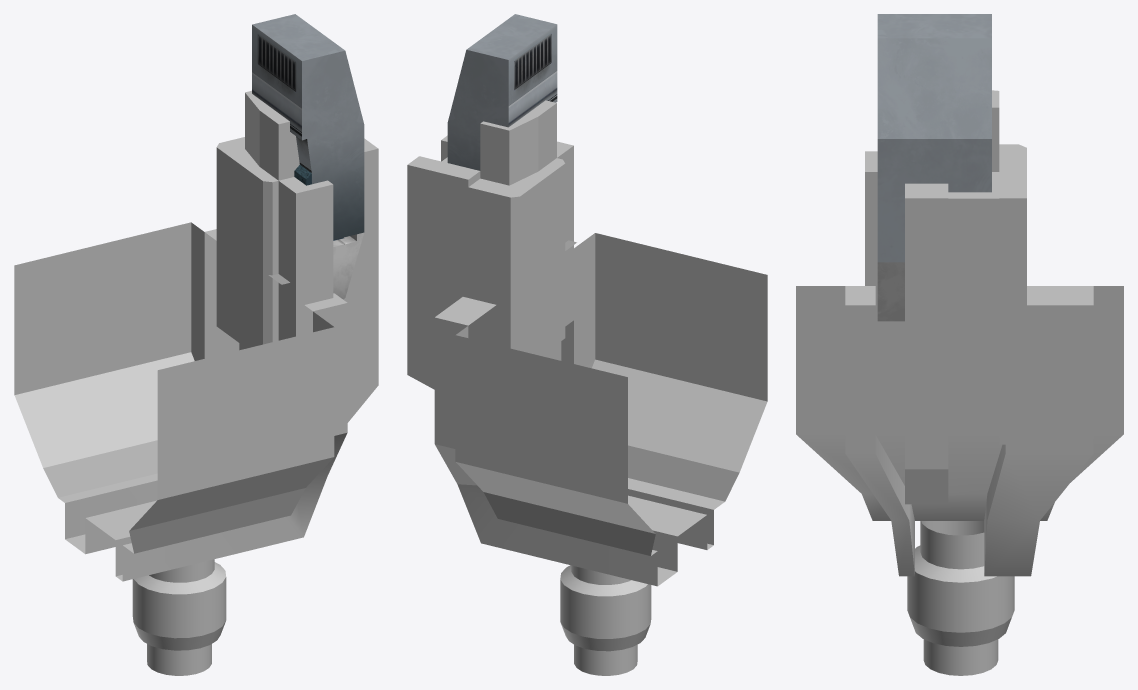
The model's file is SpacialWall_04_ST.fbx.
3 renders of one model, left to right at view 1: azimuth 30°, elevation 25°; view 2: azimuth 150°, elevation 25°; view 3: azimuth 270°, elevation 25°, orthographic. The views are drawn at different scales.
Parts seen in each view (by area): view 1: SpacialWall_04; view 2: SpacialWall_04; view 3: SpacialWall_04.
Part boxes in pixels (box(x1,y1,x2,y2)): SpacialWall_04: box(14, 14, 378, 675); SpacialWall_04: box(407, 14, 767, 675); SpacialWall_04: box(796, 14, 1123, 675).
Bounding box in the file's own units: 3.1 × 6.69 × 2.86.
